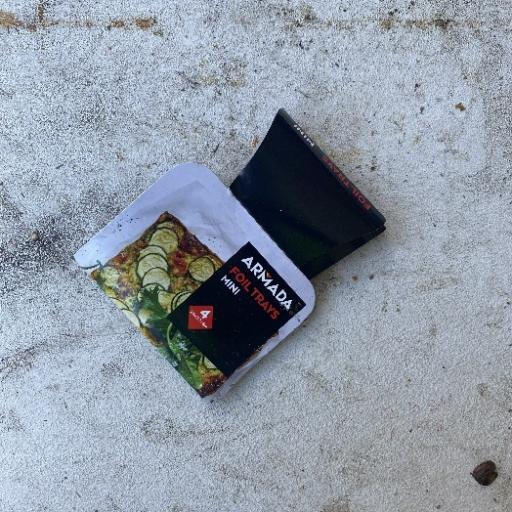Cardboard: (72, 106, 388, 402)
